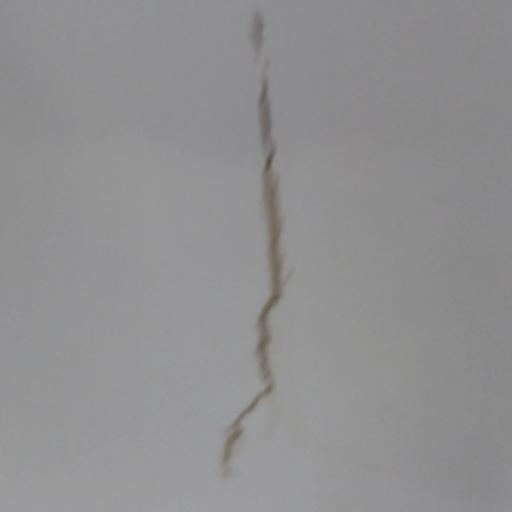stain: (196, 0, 294, 491)
